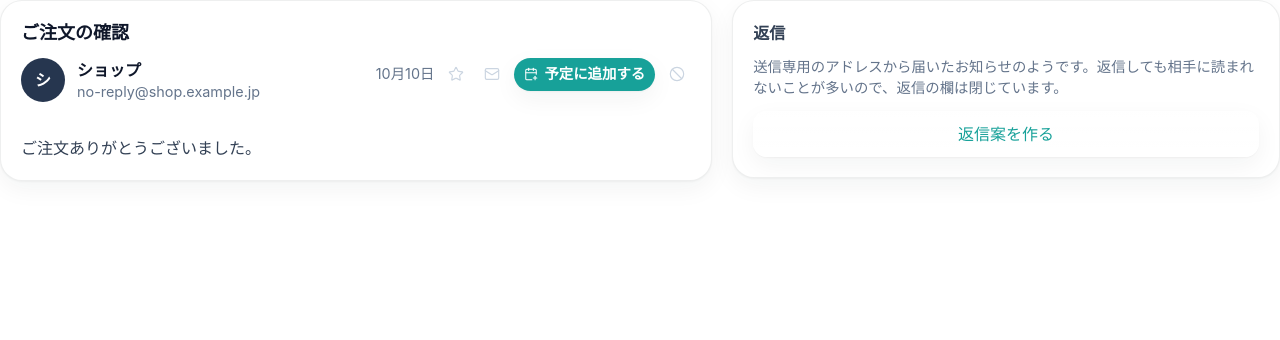
Test: メール1通の画面 › 送信専用アドレスのメールは、返信欄を閉じておき「返信案を作る」で開く
Expected: the text "ご注文ありがとうございました。" is shown, [21, 138, 261, 158]
Expected: the button "AI下書きを作成" is not shown
Click the button "返信案を作る" at (1006, 134), box [753, 111, 1259, 157]
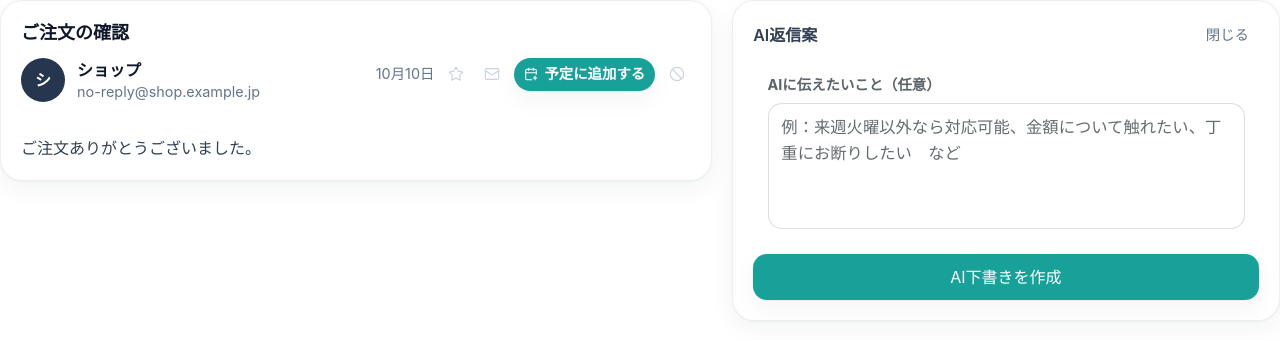
Now the button "AI下書きを作成" is shown, box [753, 254, 1259, 300]
Note: 開いた後も「閉じる」で畳める。
Click the button "閉じる" at (1227, 35), box [1196, 21, 1259, 50]
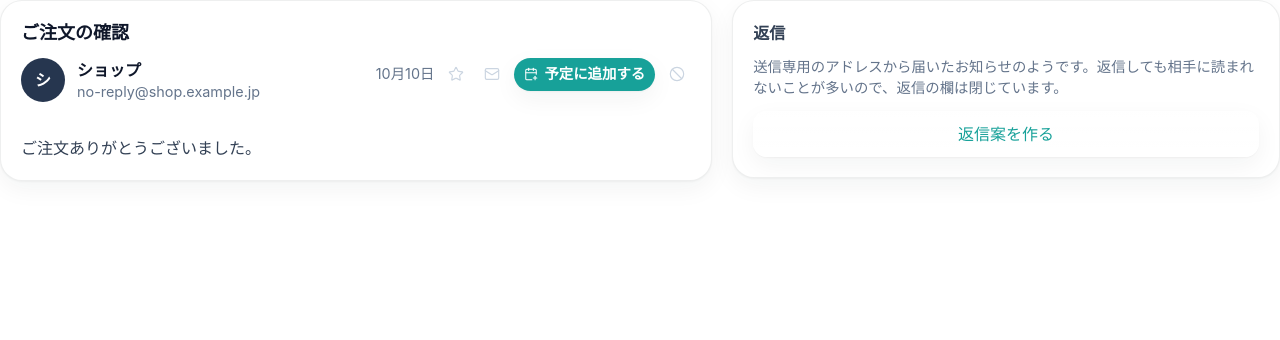
Now the button "AI下書きを作成" is gone
